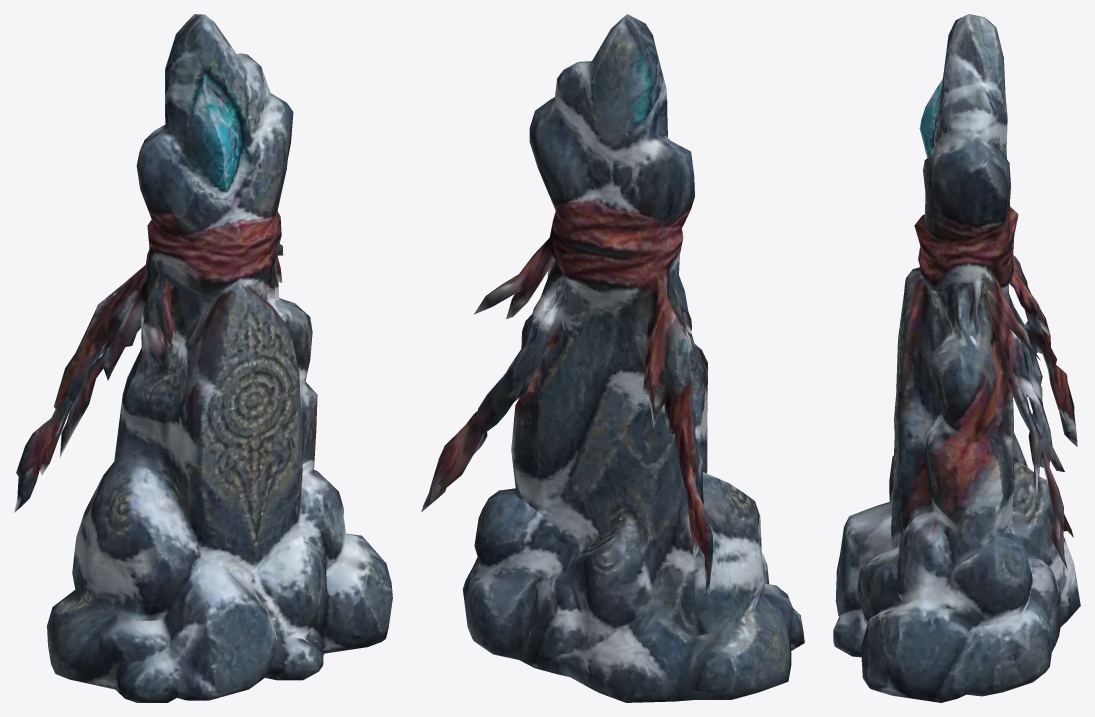
Rendered from SM_Prop_FrostPrayerCairn.glb.
3 views of the same model, side by side, from view 1: azimuth 30°, elevation 25°; view 2: azimuth 150°, elevation 25°; view 3: azimuth 270°, elevation 25° (orthographic). The views are drawn at different scales.
Visible parts, largest first — view 1: SM_Prop_FrostPrayerCairn_LOD0; view 2: SM_Prop_FrostPrayerCairn_LOD0; view 3: SM_Prop_FrostPrayerCairn_LOD0.
Part boxes in pixels (bbox=[...]): SM_Prop_FrostPrayerCairn_LOD0: bbox=[14, 14, 392, 702]; SM_Prop_FrostPrayerCairn_LOD0: bbox=[421, 14, 804, 702]; SM_Prop_FrostPrayerCairn_LOD0: bbox=[833, 14, 1080, 702].
Size of the model in its own units: 1.05 by 1.97 by 0.7206.
1 material, 1 textured.
